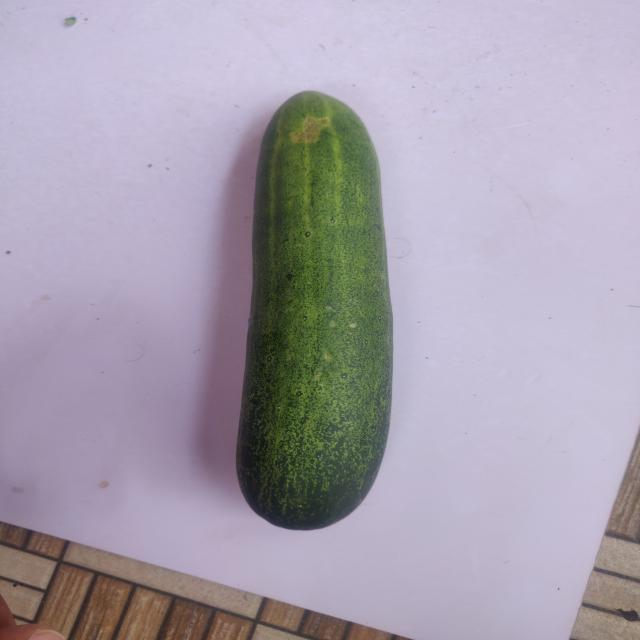Cucumber: (234, 74, 401, 539)
